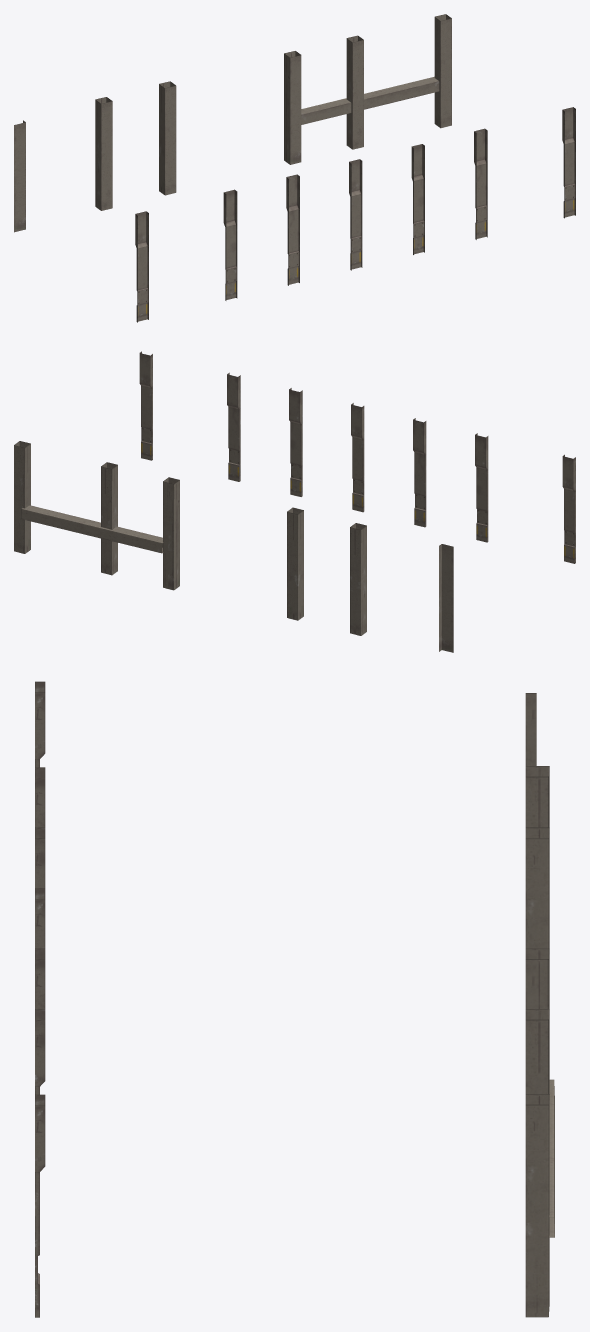
Rendered from SM_set_b.fbx.
3 views of the same model, one above another, from view 1: azimuth 30°, elevation 25°; view 2: azimuth 150°, elevation 25°; view 3: azimuth 270°, elevation 25° (orthographic). The views are drawn at different scales.
Visible parts, largest first — view 1: SM_set_b; view 2: SM_set_b; view 3: SM_set_b.
Part boxes in pixels (x1,y1,x2,y2): SM_set_b: [14, 14, 575, 322]; SM_set_b: [14, 351, 575, 652]; SM_set_b: [35, 681, 554, 1317].
Bounding box in the file's own units: 4002 × 936 × 2076.
